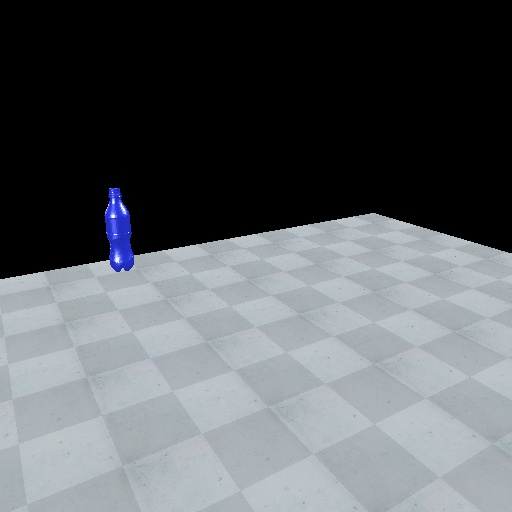bottle: (100, 184, 138, 273)
